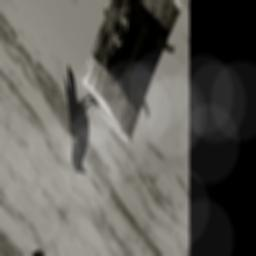Crow: (41, 60, 111, 185)
